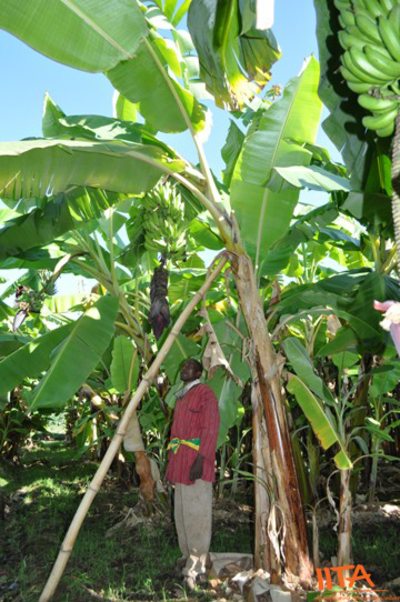bananaHand: (329, 1, 399, 139), (141, 177, 187, 259)
